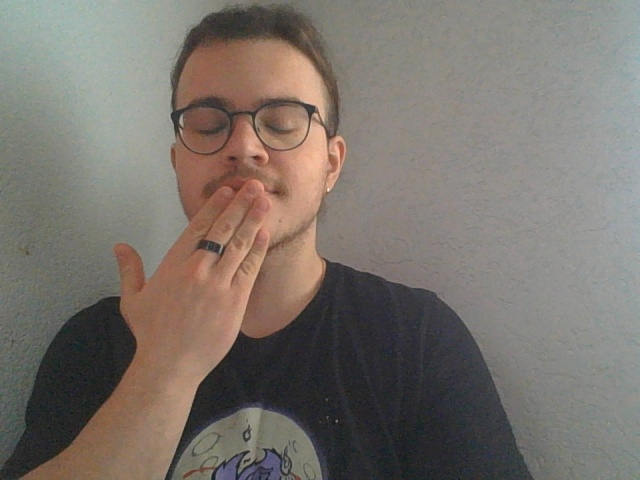ThankYou: (111, 178, 274, 480)
